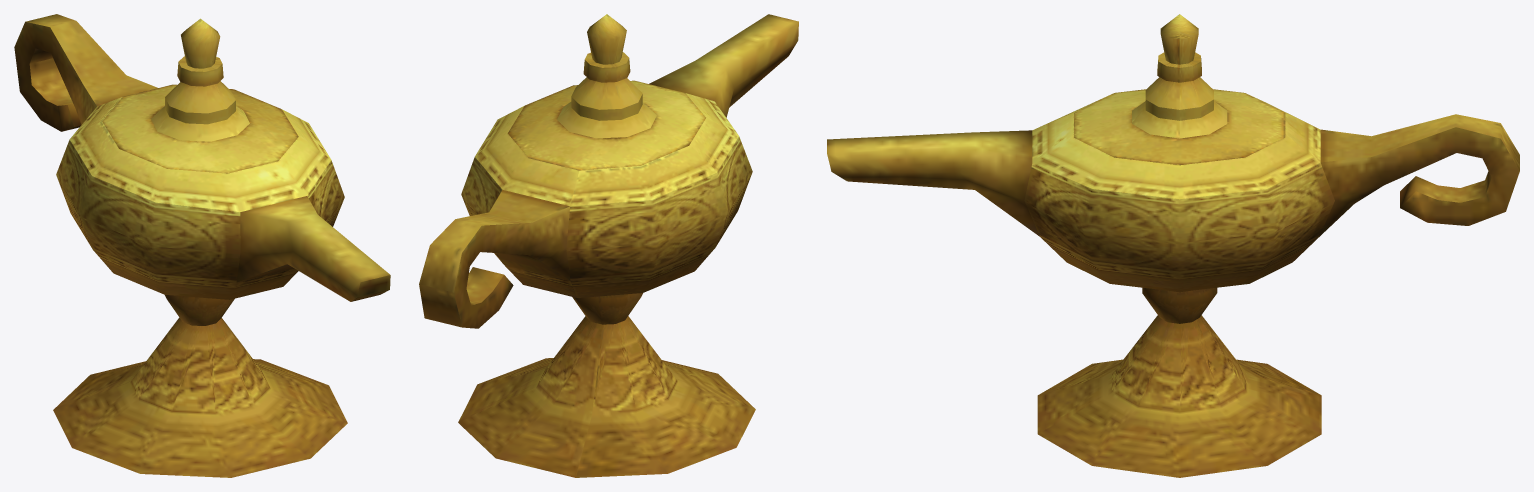
The model's file is genie_bottle_gold.dae.
3 views of the same model, side by side, from view 1: azimuth 30°, elevation 25°; view 2: azimuth 150°, elevation 25°; view 3: azimuth 270°, elevation 25° (orthographic).
Visible parts, largest first — view 1: pCylinder1; view 2: pCylinder1; view 3: pCylinder1.
Part boxes in pixels (left/top/right/bottom): pCylinder1: left=14, top=14, right=390, bottom=477; pCylinder1: left=419, top=14, right=798, bottom=477; pCylinder1: left=827, top=14, right=1519, bottom=477.
Size of the model in its own units: 0.1803 by 0.2671 by 0.4183.
